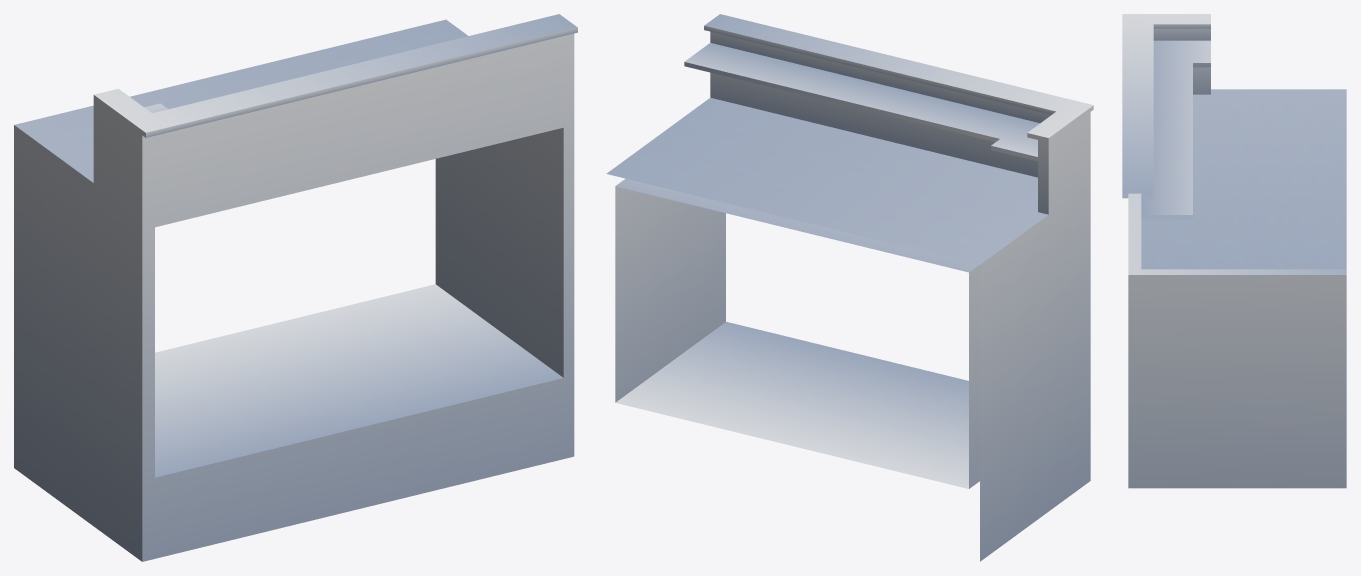
The model's file is Bed_struc.fbx.
3 views of the same model, side by side, from view 1: azimuth 30°, elevation 25°; view 2: azimuth 150°, elevation 25°; view 3: azimuth 270°, elevation 25° (orthographic). The views are drawn at different scales.
Parts seen in each view (by area): view 1: Bed_struc; view 2: Bed_struc; view 3: Bed_struc.
Boxes of the visible parts, x1,y1,x2,y2 form: Bed_struc: (14,14,577,561); Bed_struc: (606,14,1093,561); Bed_struc: (1122,14,1346,488).
Bounding box in the file's own units: 20.21 × 19.3 × 10.67.
Materials: 1 (1 with a texture image).
